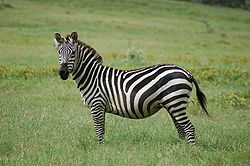Zebra: (49, 25, 211, 148)
